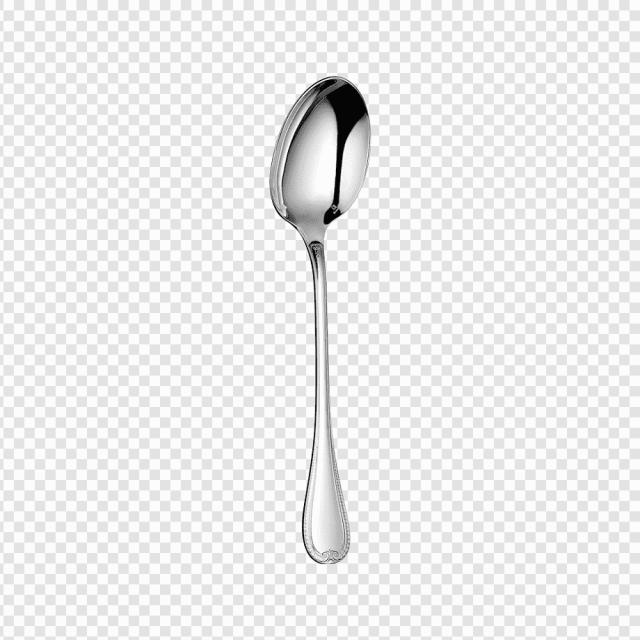Sendok: (212, 61, 393, 582)
